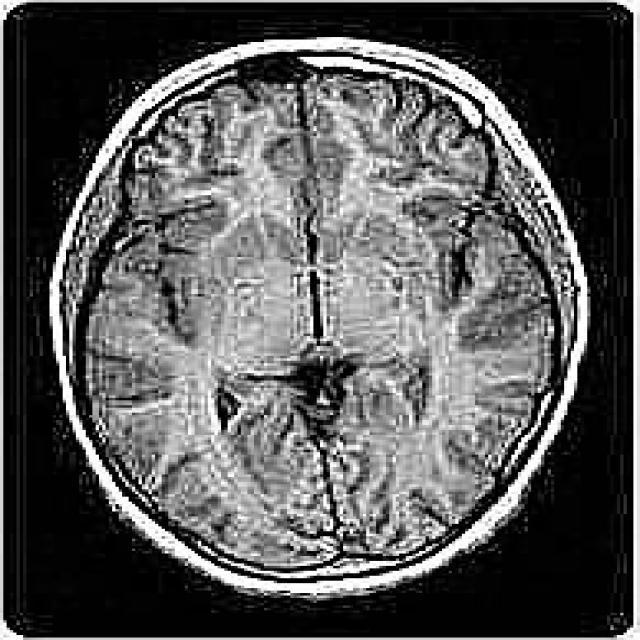notumor: (49, 40, 591, 603)
